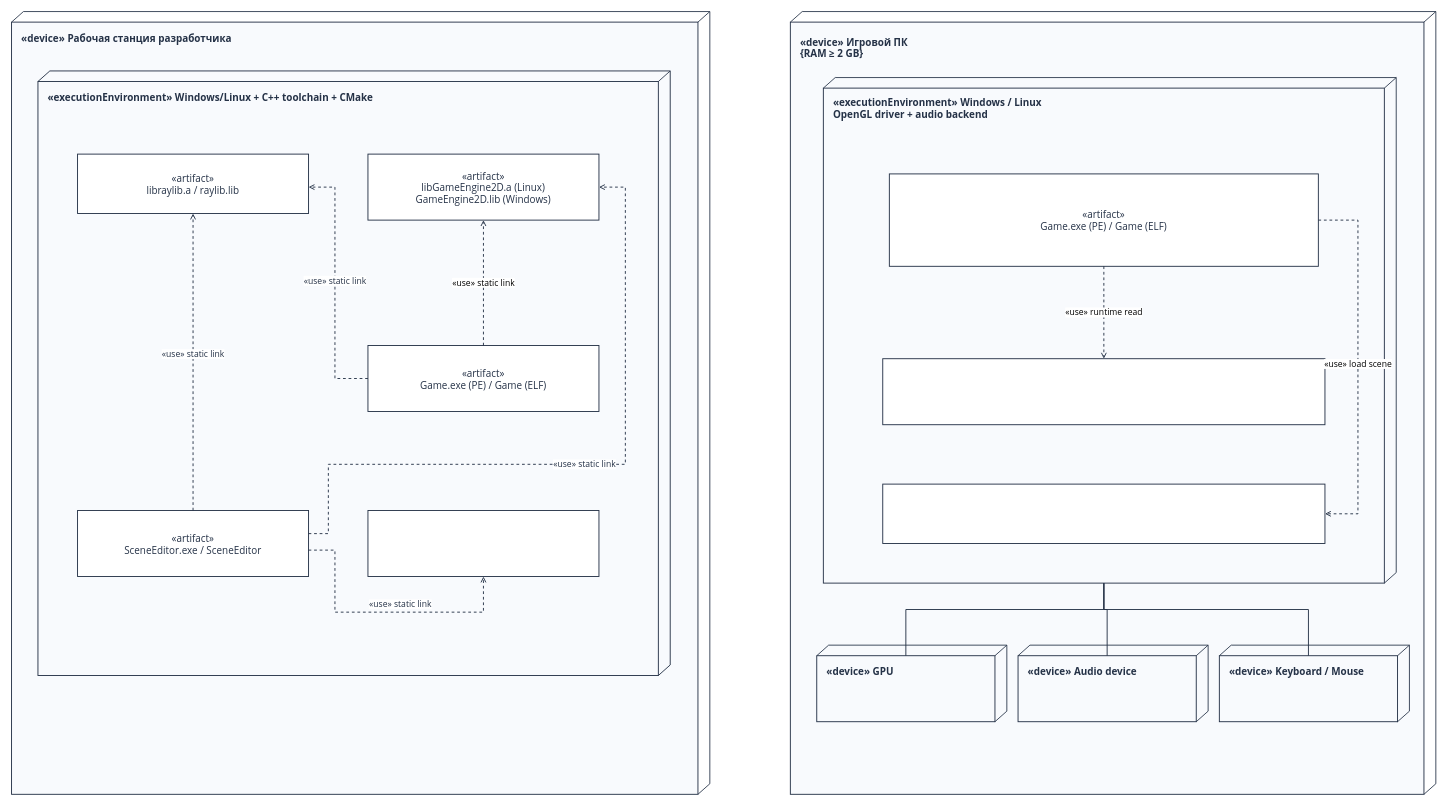
Image size: 1449x807. Some labels were removed from this diagram. The shapes that lost their labels are listed below. From the top down, each one's box as (x1, y1, x2, y2) in pixels, then its label:
(882, 358, 1325, 425): «artifact» assets/ PNG (alpha), JPG, WAV, OGG Vorbis, TTF, OTF, JSON
(882, 483, 1325, 544): «artifact» assets/scenes/*.json
(367, 510, 599, 577): «artifact» Dear ImGui + rlImGui (статические библиотеки)
